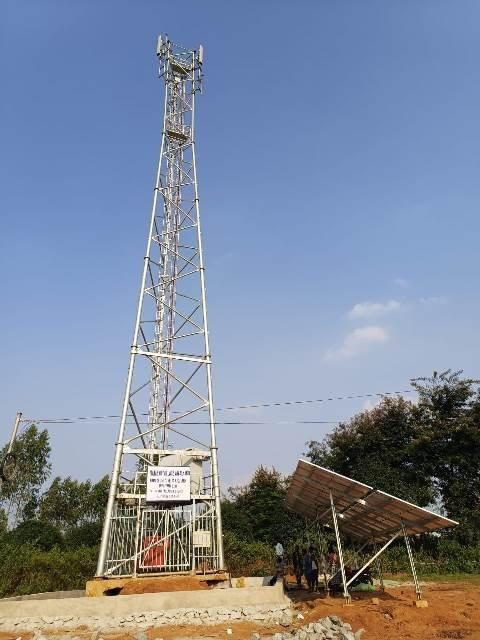GSM Antenna: (196, 41, 207, 67), (154, 32, 164, 57)
